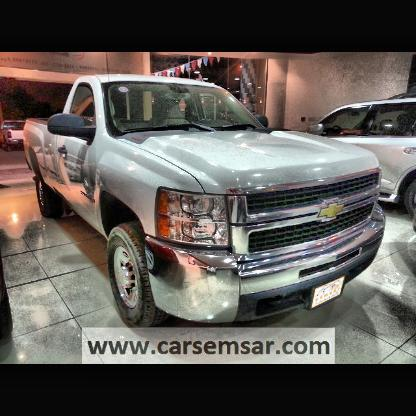Chevrolet Silverado 1500 Regular Cab 2012: (22, 76, 386, 330)
